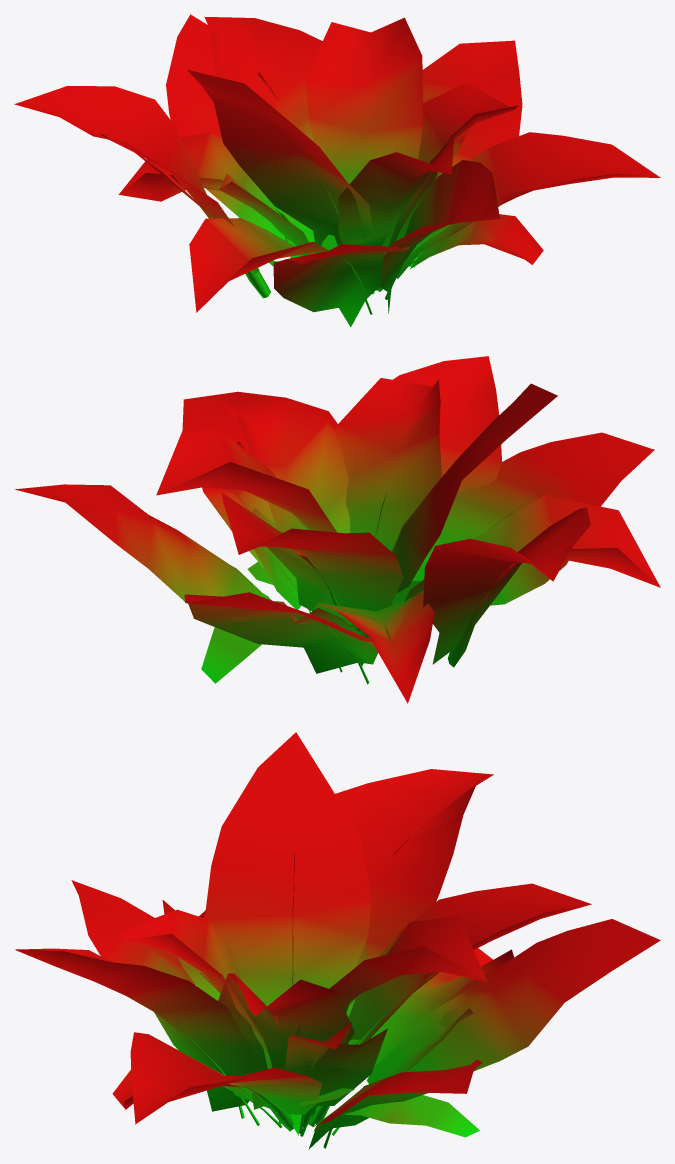
Rendered from Lady Fern_LOD4_Var1_wdvlditia.fbx.
3 views of the same model, one above another, from view 1: azimuth 30°, elevation 25°; view 2: azimuth 150°, elevation 25°; view 3: azimuth 270°, elevation 25° (orthographic). The views are drawn at different scales.
Parts seen in each view (by area): view 1: _en3w_Var1_LOD4; view 2: _en3w_Var1_LOD4; view 3: _en3w_Var1_LOD4.
Boxes of the visible parts, x1,y1,x2,y2 form: _en3w_Var1_LOD4: [14, 14, 660, 327]; _en3w_Var1_LOD4: [14, 356, 660, 703]; _en3w_Var1_LOD4: [15, 732, 660, 1149].
Bounding box in the file's own units: 94.91 × 51.23 × 97.14.
